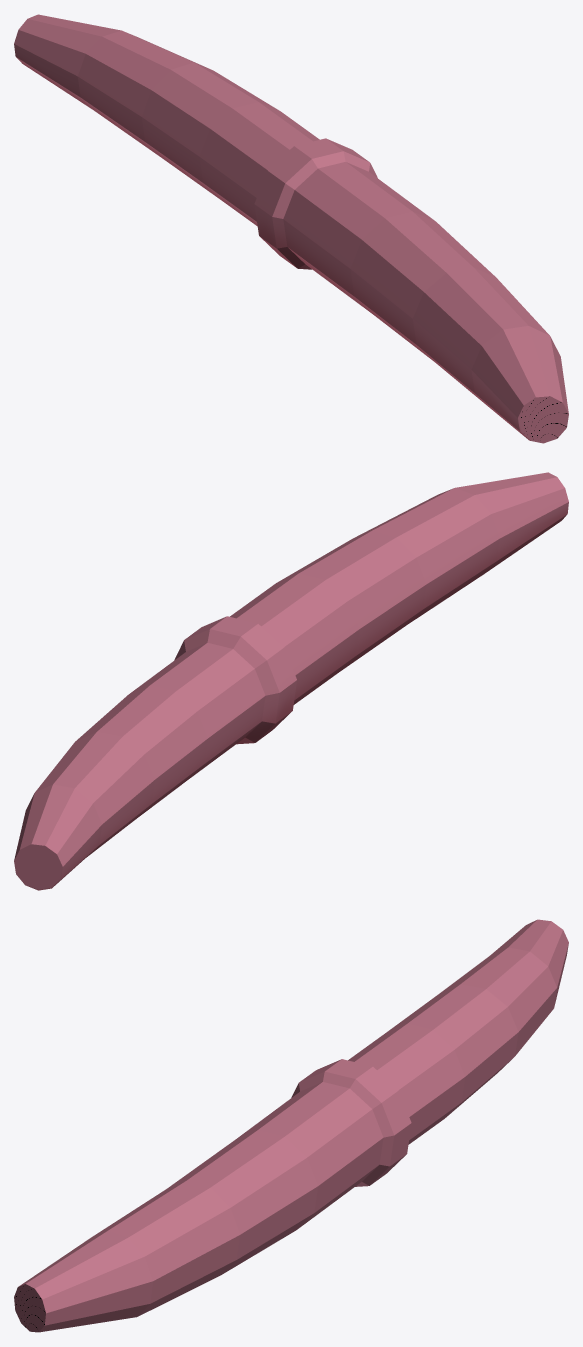
The model's file is worm.fbx.
3 views of the same model, one above another, from view 1: azimuth 30°, elevation 25°; view 2: azimuth 150°, elevation 25°; view 3: azimuth 330°, elevation 25° (orthographic). The views are drawn at different scales.
Visible parts, largest first — view 1: Cylinder; view 2: Cylinder; view 3: Cylinder.
Part boxes in pixels (x1,y1,x2,y2): Cylinder: [14, 14, 568, 443]; Cylinder: [14, 472, 568, 890]; Cylinder: [14, 919, 568, 1332].
Bounding box in the file's own units: 15.02 × 12.94 × 107.
